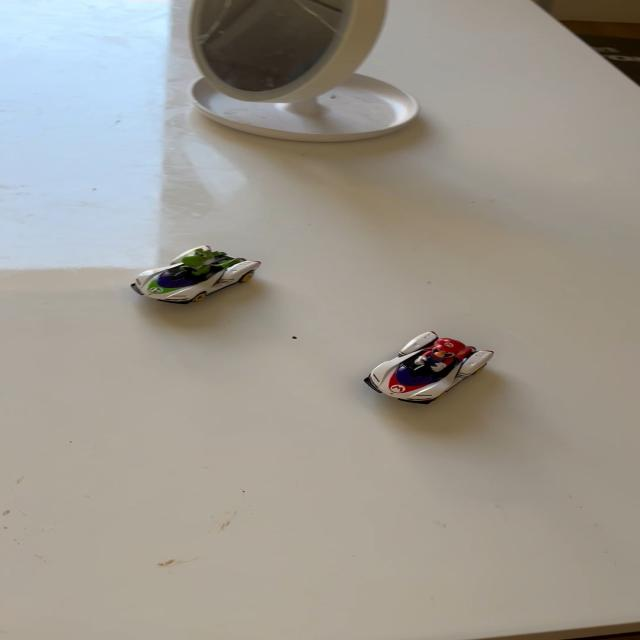mario: (344, 317, 514, 413)
yoshi: (125, 240, 276, 312)
